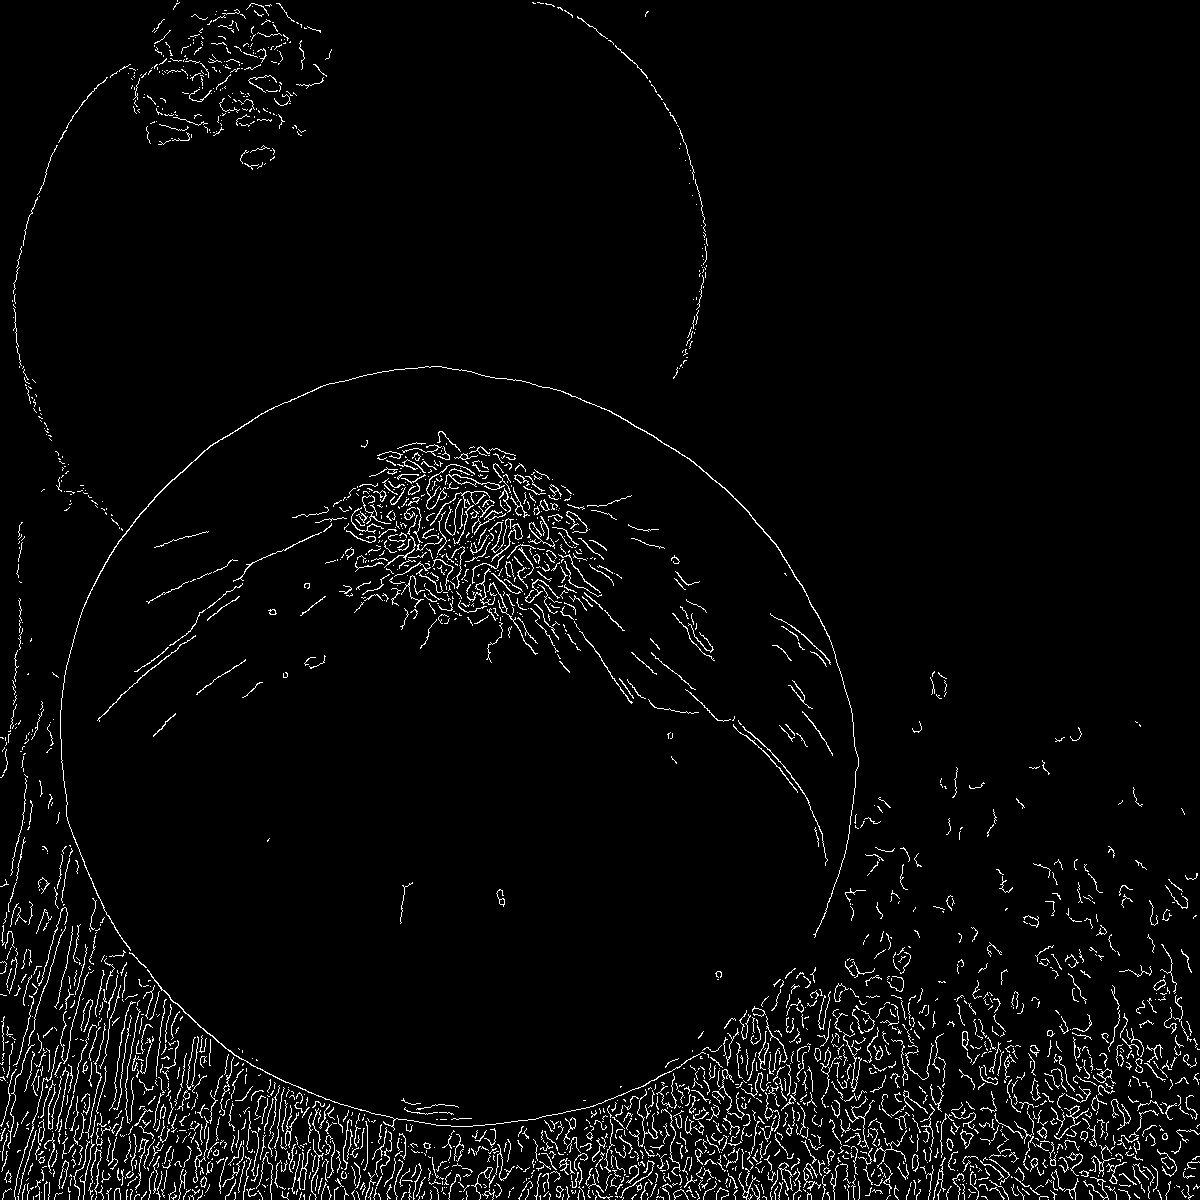onion: (45, 323, 876, 1144), (16, 18, 749, 547)
